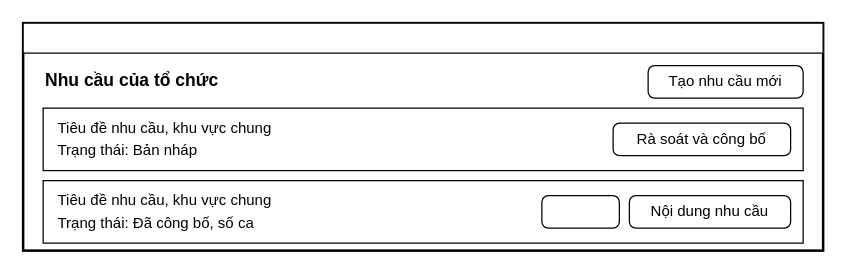
The diagram is 845 pixels wide and 273 high, and some of its shapes have lost their labels. The shapes that lost their labels are listed below. From the top down, each one's centre as x and y in pixels, then its label:
At (x=422, y=37): "Đầu trang và thanh mục (Hình 6.2)".
At (x=580, y=211): "Ca làm".
